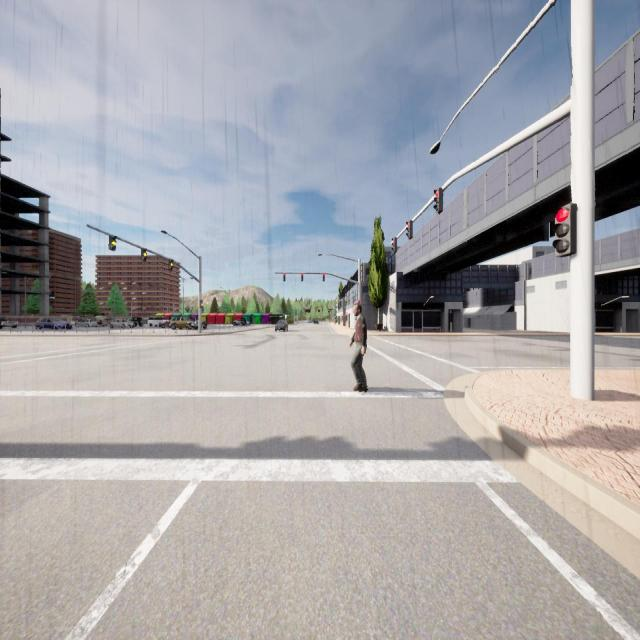Pedestrian: (350, 304, 368, 392)
Vehicle: (35, 316, 72, 330), (170, 314, 193, 330), (109, 319, 134, 329), (75, 318, 98, 328), (148, 316, 168, 327), (0, 317, 18, 329), (275, 320, 288, 332), (192, 320, 207, 330), (100, 317, 112, 327), (232, 318, 245, 326), (133, 317, 142, 327), (159, 320, 170, 328), (314, 319, 319, 325), (308, 319, 311, 323)
traffic_light: (552, 204, 576, 258), (433, 188, 443, 214), (406, 220, 413, 240), (109, 235, 116, 251), (391, 237, 397, 254), (168, 259, 174, 270), (141, 248, 146, 260), (200, 299, 203, 308), (301, 272, 303, 282), (323, 273, 325, 282), (283, 274, 285, 282), (358, 300, 360, 304)
